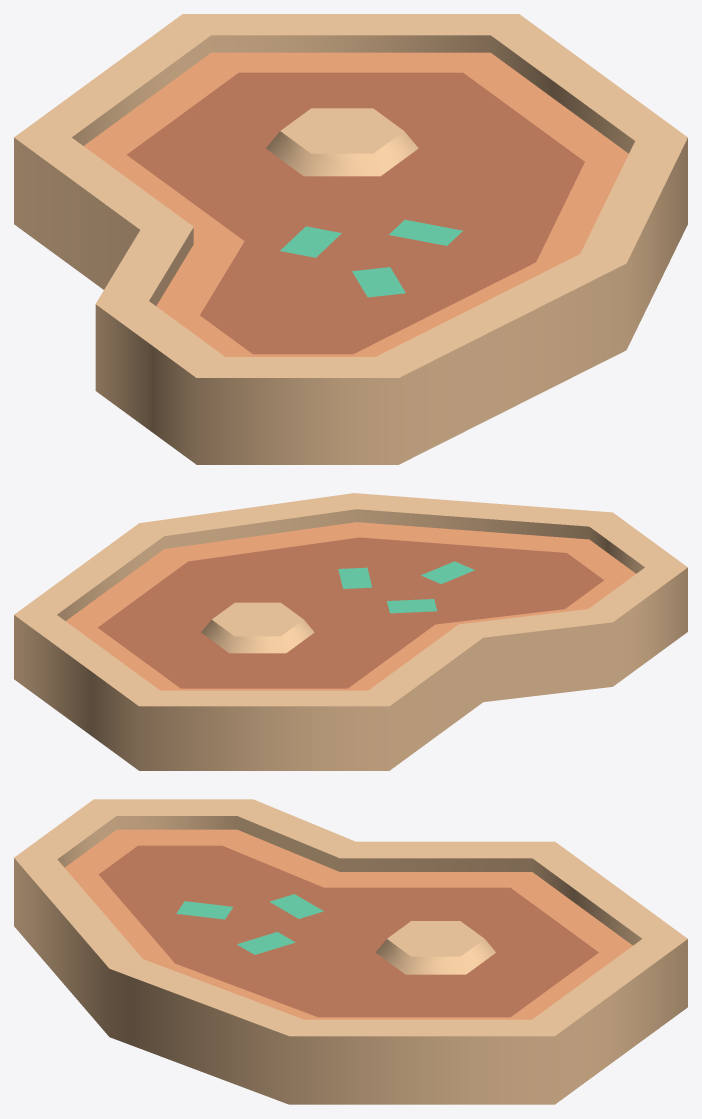
File: meatCooked.dae
3 views of the same model, one above another, from view 1: azimuth 30°, elevation 25°; view 2: azimuth 150°, elevation 25°; view 3: azimuth 270°, elevation 25° (orthographic). The views are drawn at different scales.
Visible parts, largest first — view 1: meatCooked; view 2: meatCooked; view 3: meatCooked.
Boxes of the visible parts, left/top/right/bottom form: meatCooked: left=14, top=14, right=687, bottom=464; meatCooked: left=14, top=493, right=687, bottom=770; meatCooked: left=14, top=799, right=687, bottom=1104.
Size of the model in its own units: 0.4785 by 0.0645 by 0.5754.
